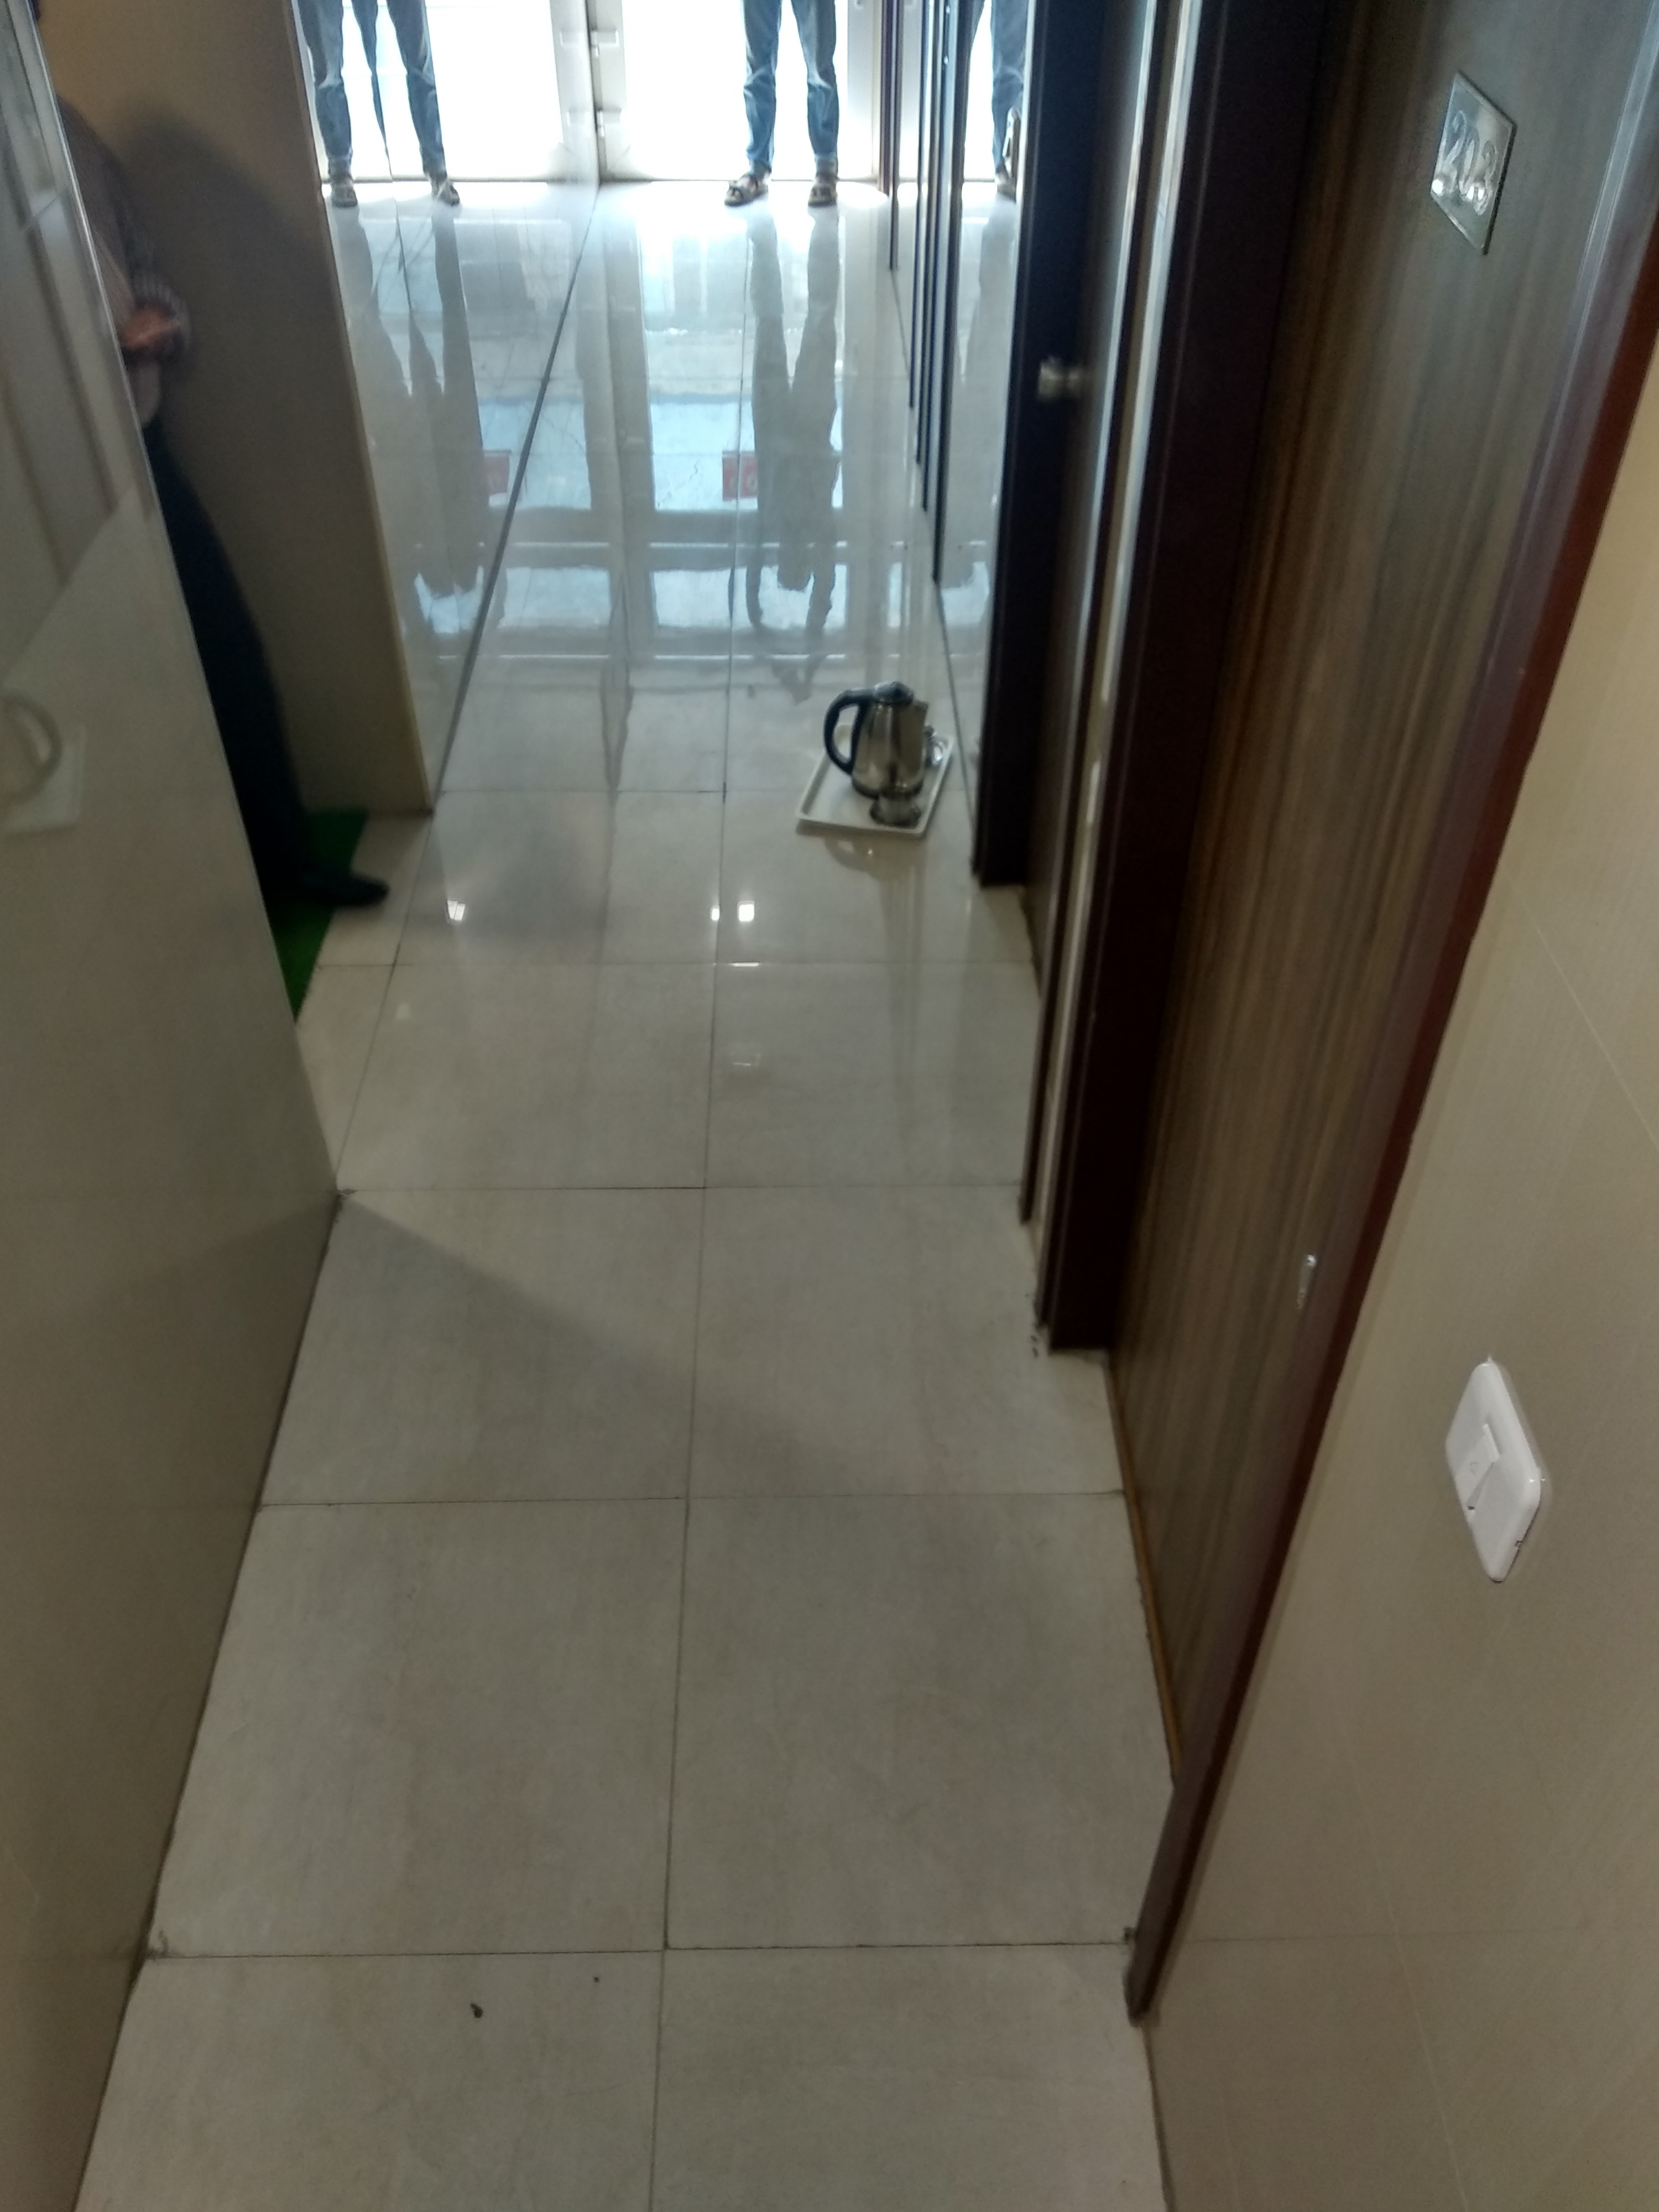CUP: (871, 779, 925, 831)
JUG: (817, 672, 941, 786)
